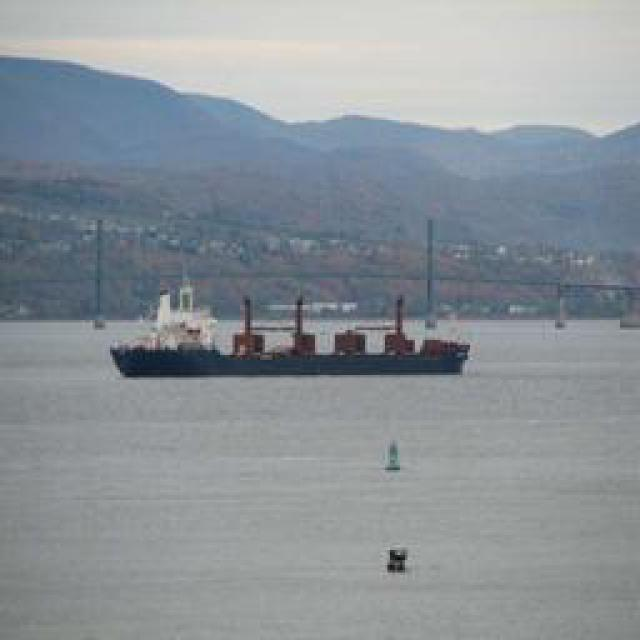Ship: (115, 310, 473, 378)
